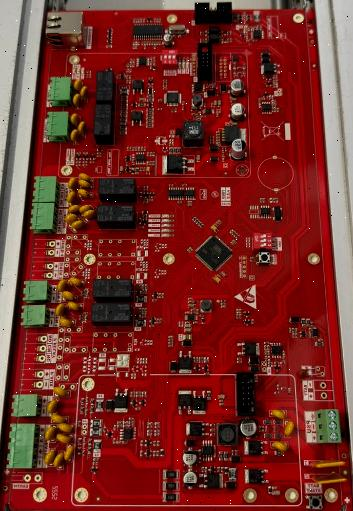var: (312, 473, 347, 484), (311, 460, 346, 469), (272, 441, 288, 452), (53, 452, 64, 468), (45, 426, 56, 441), (44, 450, 55, 465), (57, 423, 73, 433), (284, 421, 294, 437), (56, 434, 72, 444), (55, 303, 66, 317), (47, 400, 58, 414), (53, 387, 68, 397), (51, 414, 66, 424), (271, 410, 286, 420), (79, 86, 88, 102), (66, 302, 82, 311), (64, 445, 73, 461), (65, 214, 78, 225), (70, 113, 80, 127), (69, 277, 83, 287), (79, 205, 93, 215), (82, 210, 96, 220), (77, 121, 86, 136), (59, 318, 74, 327), (62, 291, 75, 301), (78, 173, 91, 183), (72, 94, 81, 108), (70, 221, 84, 230), (70, 129, 79, 143), (57, 280, 67, 292), (67, 178, 77, 190), (78, 189, 90, 199), (73, 79, 82, 92), (67, 192, 76, 205), (78, 180, 91, 189), (68, 205, 80, 214)
